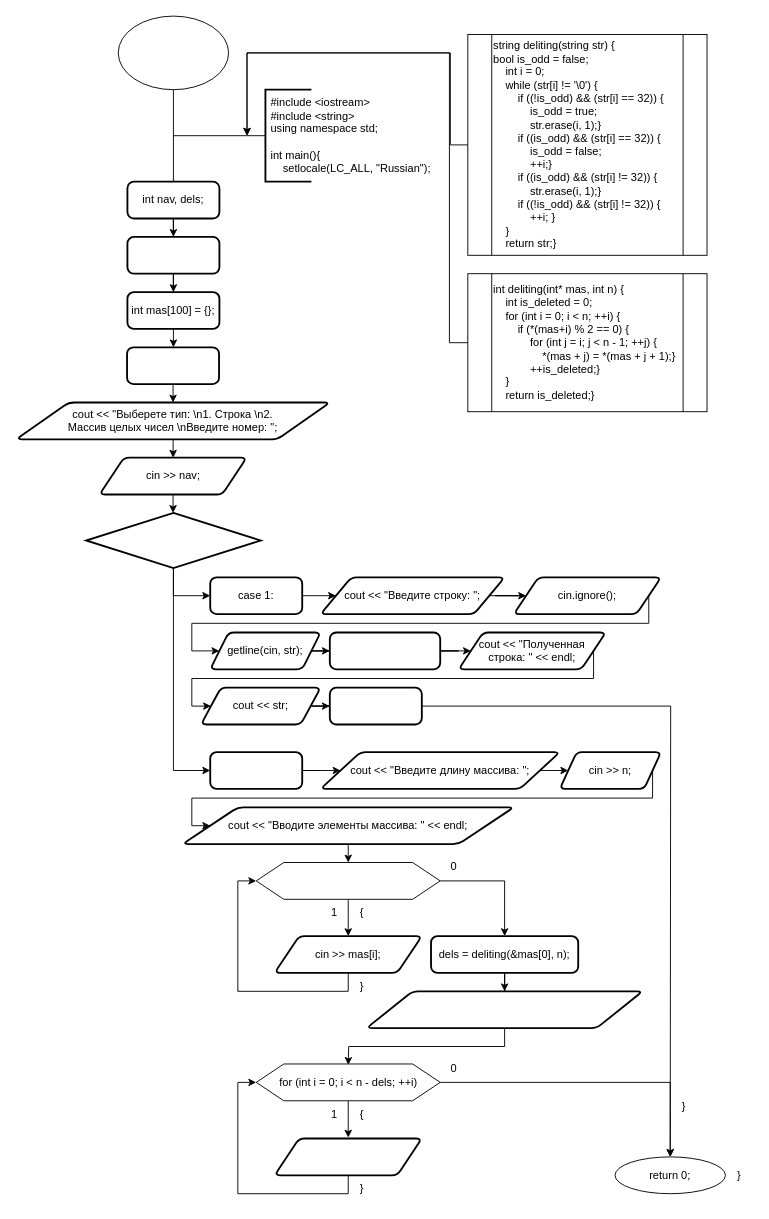
Image size: 769x1219. Some labels were removed from this diagram. Each missing label, with the centre of its shape:
break;: point 375,705
case 2:: point 256,770
cout << "Полученный массив: " << endl;: point 504,1009
cout << mas[i] << ' ';: point 347,1156
for (int i = 0; i < n; ++i): point 347,880
int n;: point 173,365
start: point 173,52
str = deliting(str);: point 384,650
string str;: point 173,255
switch (nav): point 173,540
